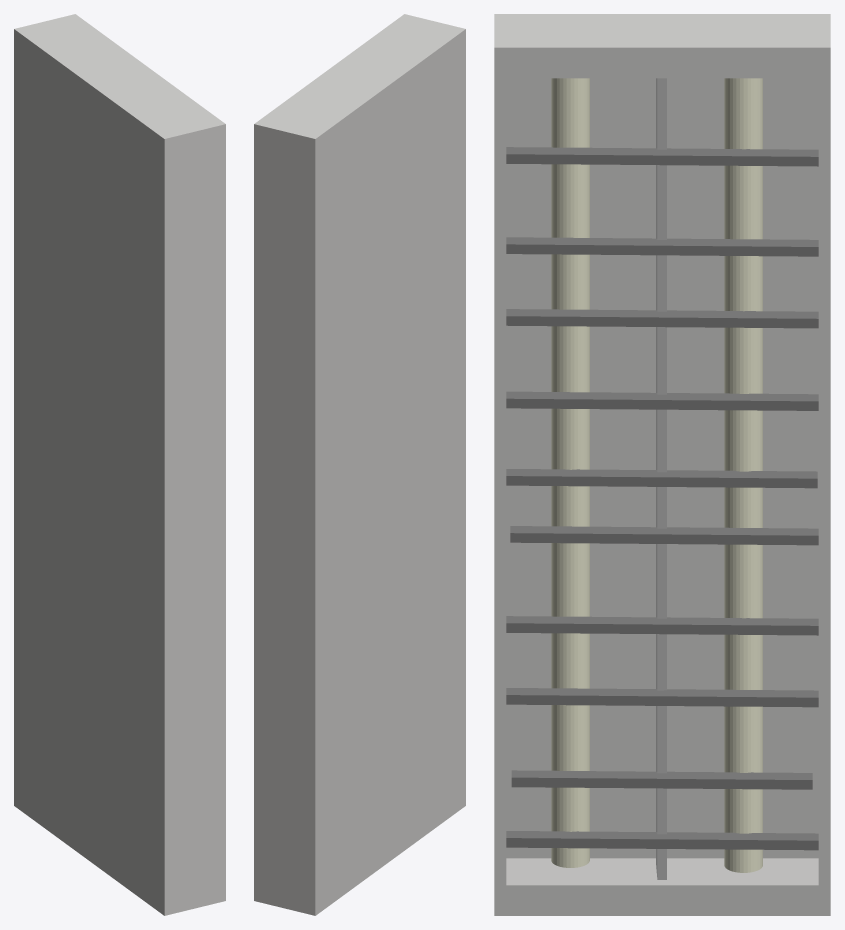
File: lights.fbx
3 renders of one model, left to right at view 1: azimuth 30°, elevation 25°; view 2: azimuth 150°, elevation 25°; view 3: azimuth 270°, elevation 25°, orthographic. The views are drawn at different scales.
Visible parts, largest first — view 1: Plane.002; view 2: Plane.002; view 3: Plane.002, Plane.001, Plane.010, Plane.004, Plane.003.
Part boxes in pixels (x1=…): Plane.002: x1=14, y1=14, x2=225, y2=915; Plane.002: x1=254, y1=14, x2=465, y2=915; Plane.002: x1=494, y1=14, x2=830, y2=915; Plane.001: x1=506, y1=147, x2=818, y2=850; Plane.010: x1=724, y1=78, x2=762, y2=872; Plane.004: x1=551, y1=78, x2=589, y2=867; Plane.003: x1=656, y1=78, x2=666, y2=879.
Bounding box in the file's own units: 75 × 906 × 318.
